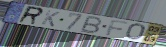7: (66, 12, 84, 31)
B: (78, 15, 103, 35)
F: (105, 19, 130, 37)
K: (40, 9, 62, 28)
O: (124, 23, 146, 41)
R: (16, 5, 45, 26)
